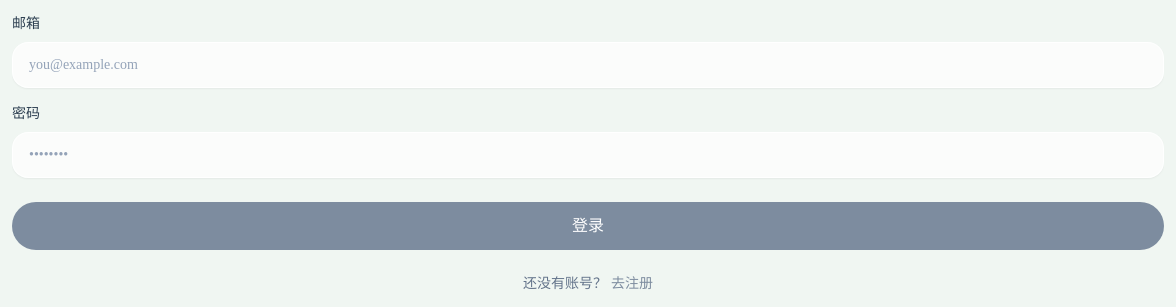
Test: LoginForm › disables sign-in button while sign-in is pending
This screenshot has width=1176, height=307.
Type "test@example.com" into the field labelled "邮箱" at coordinates (588, 65), box x1=12 y1=42 x2=1164 y2=88
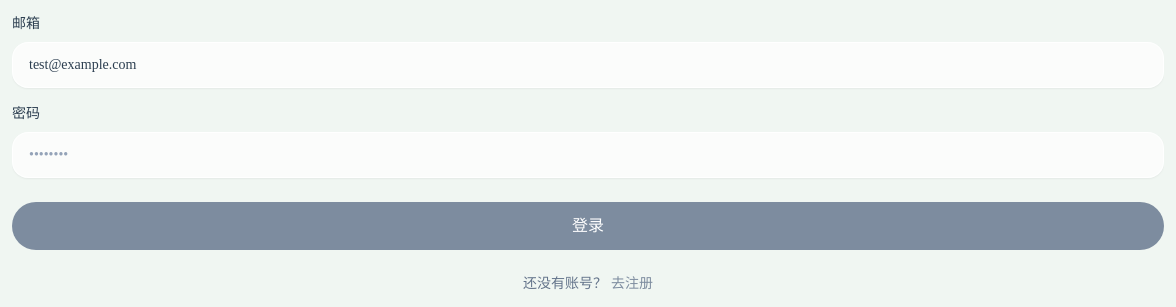
Type "password123" into the password field labelled "密码" at coordinates (588, 155), box x1=12 y1=132 x2=1164 y2=178
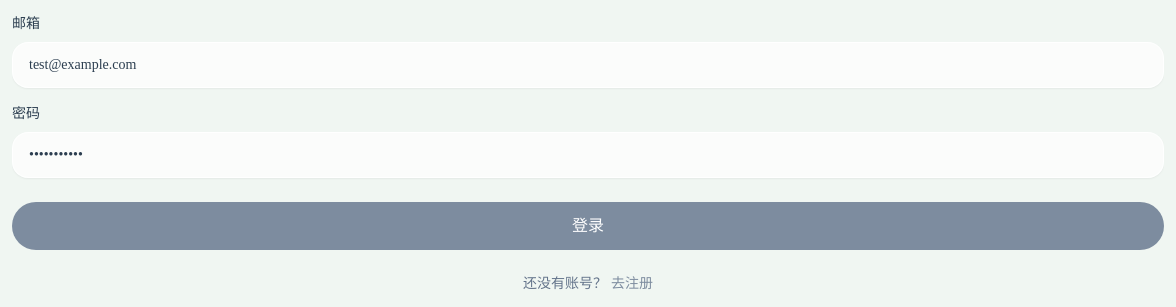
Click the button "登录" at coordinates (588, 226), box x1=12 y1=202 x2=1164 y2=250
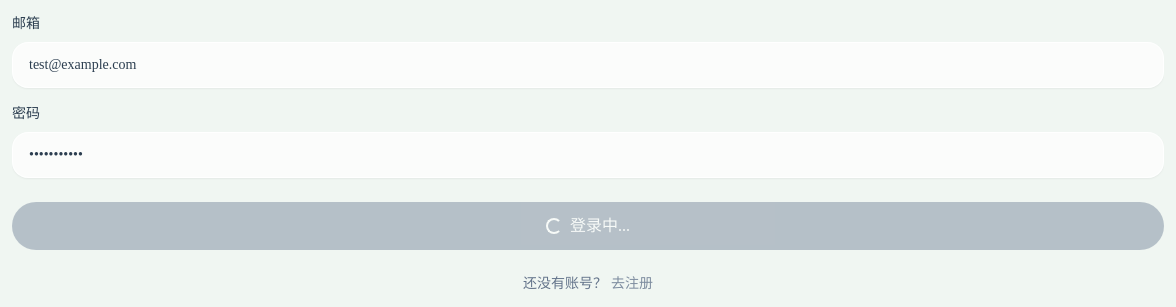
Expected: the button "登录中..." is disabled, x1=12 y1=202 x2=1164 y2=250
